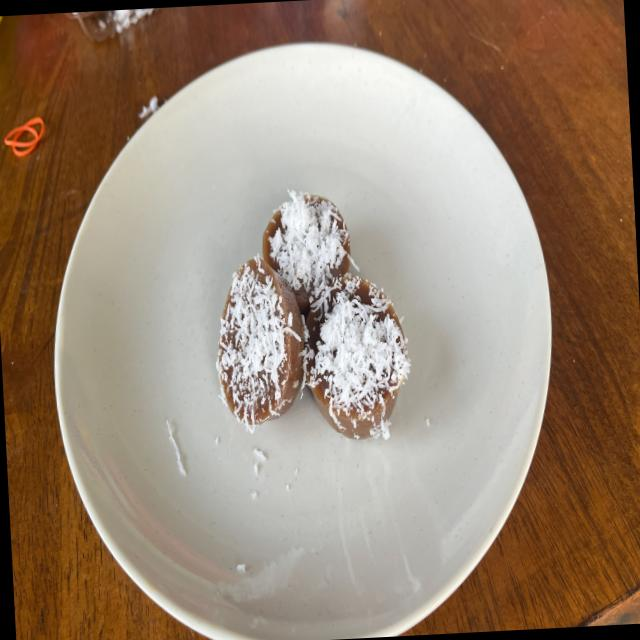Kuih lompang: (305, 274, 410, 439), (216, 256, 304, 430), (262, 190, 351, 316)
